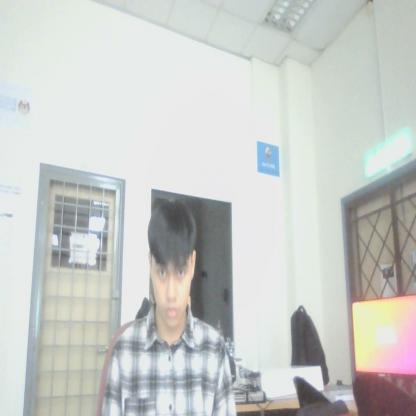Open-Eyes: (153, 256, 189, 287)
